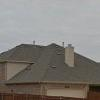Chimney: (52, 38, 77, 71)
